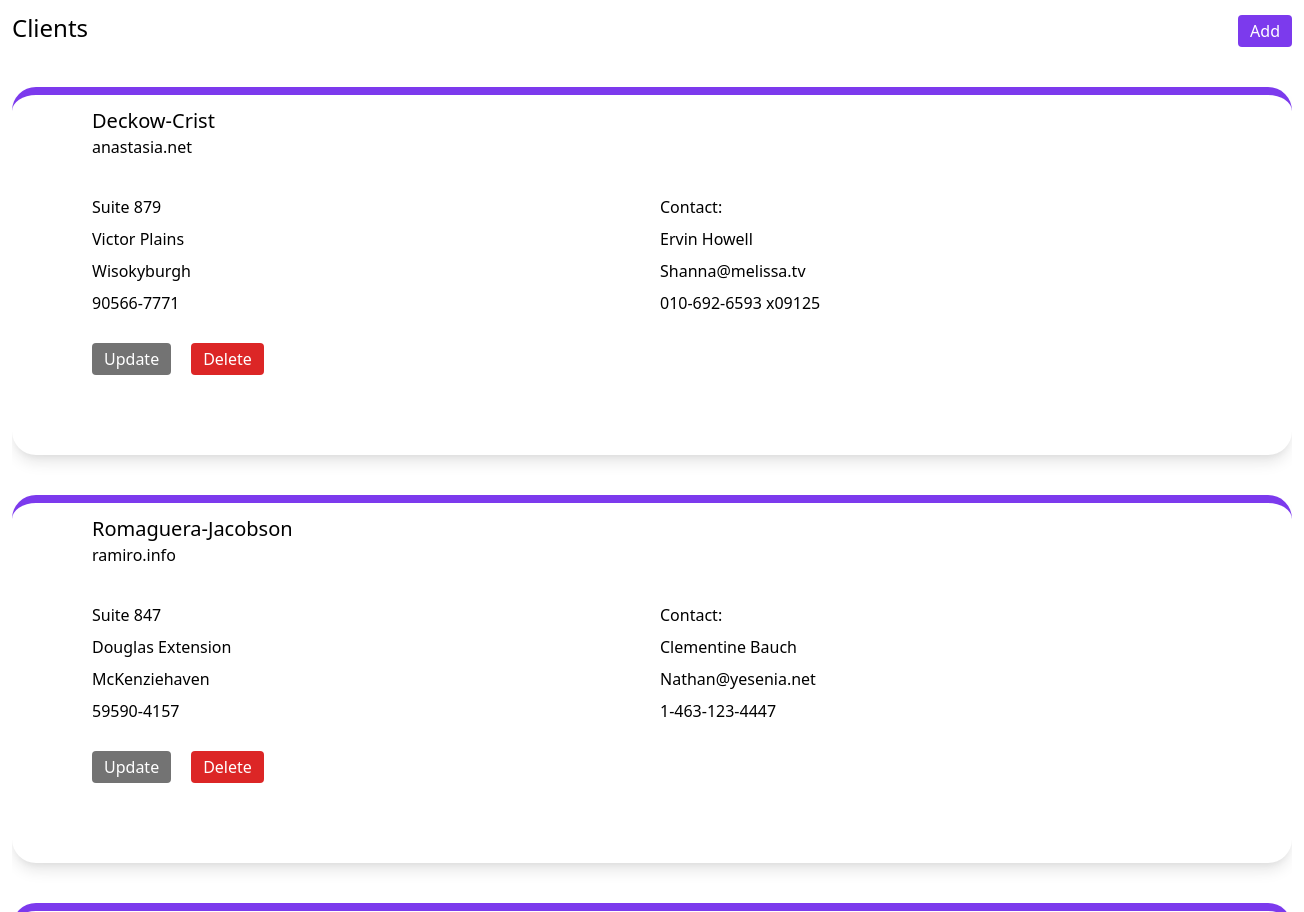
Test case: updates a client
Expected: the list item that starts with "Deckow-Crist" is shown, [12,87,1292,455]
Click the button "Update" below "90566-7771".
click(132, 359)  # box [92,343,171,375]
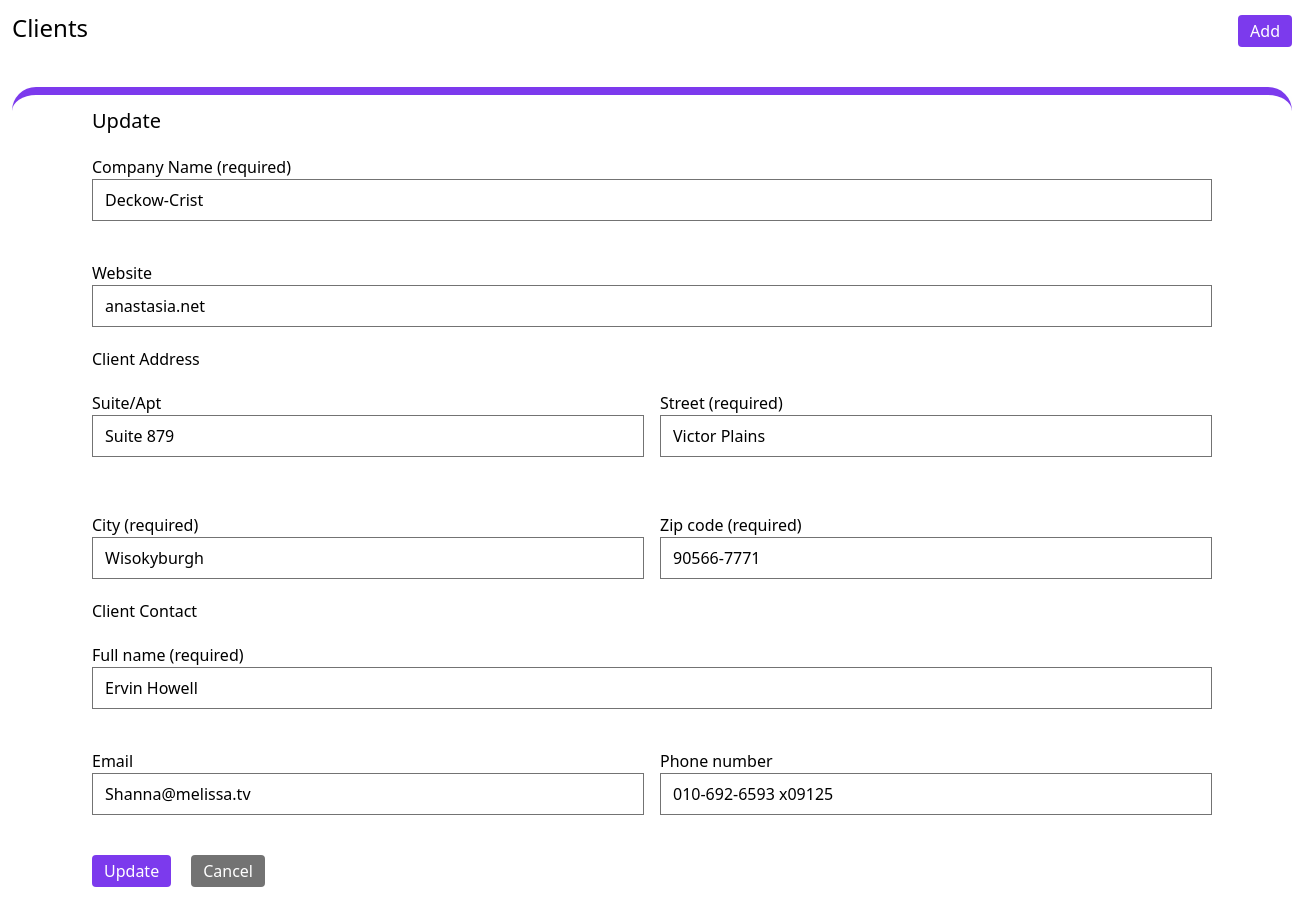
Result: the field labelled "Website" holds "anastasia.net"
Replace the text in the field labelled "Website" with "deckow-crist.net" at (652, 306), box [92,285,1212,327]
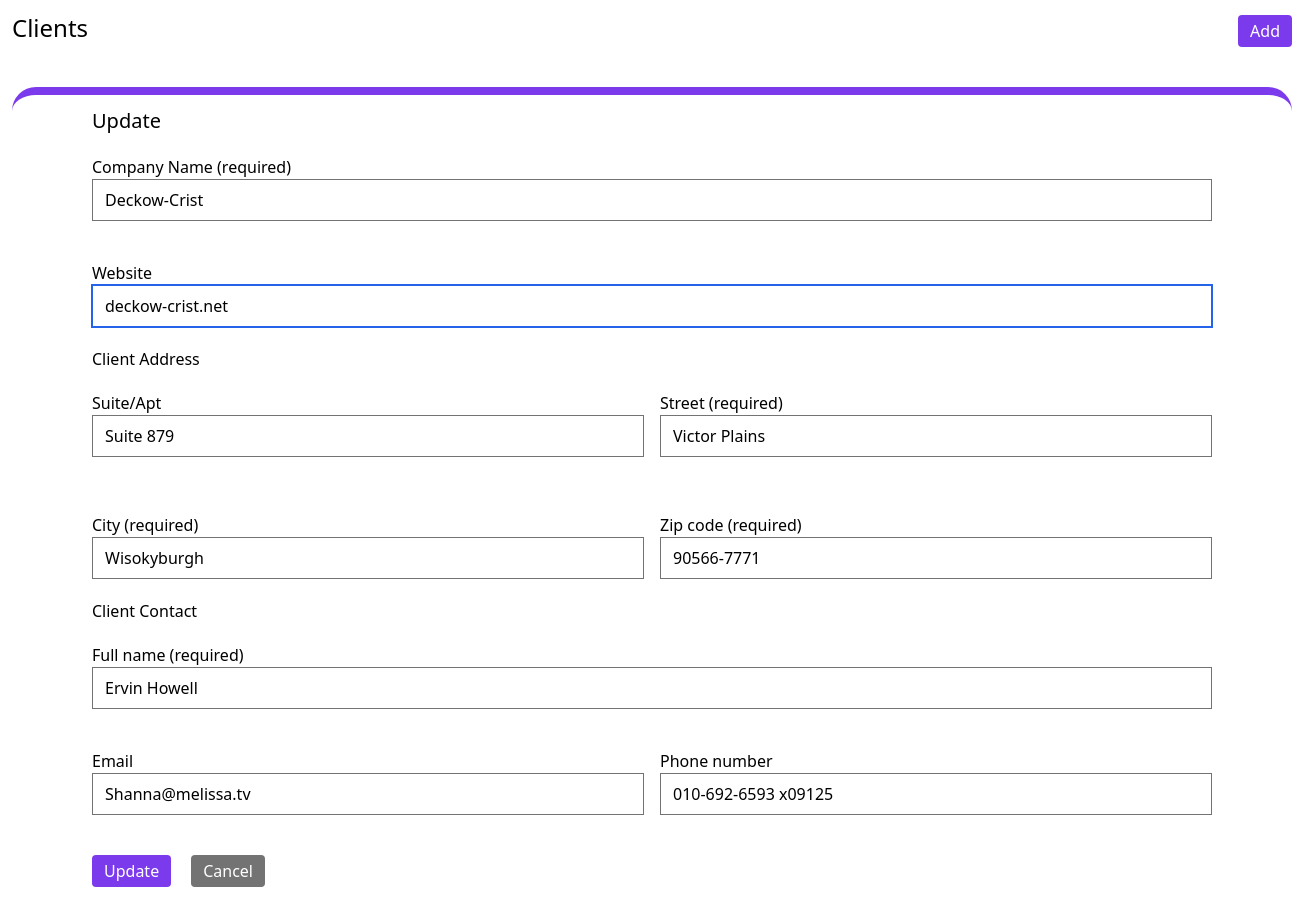
Result: the field labelled "Email" holds "Shanna@melissa.tv"
Replace the text in the field labelled "Email" with "ehowell@deckow-crist.net" at (368, 794), box [92,773,644,815]
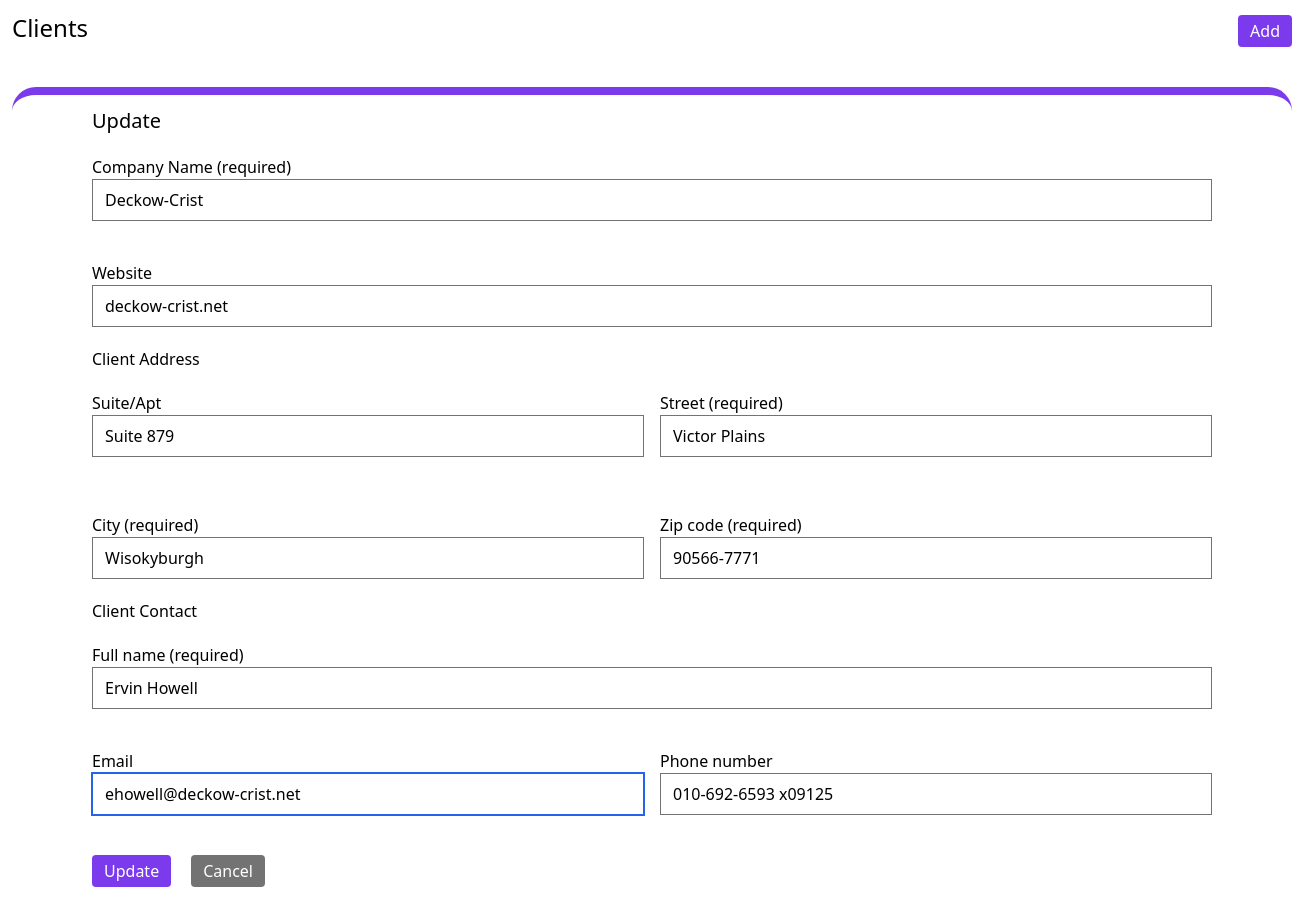
Click the button with test id "updateClientBtn2".
click(132, 871)  # box [92,855,171,887]
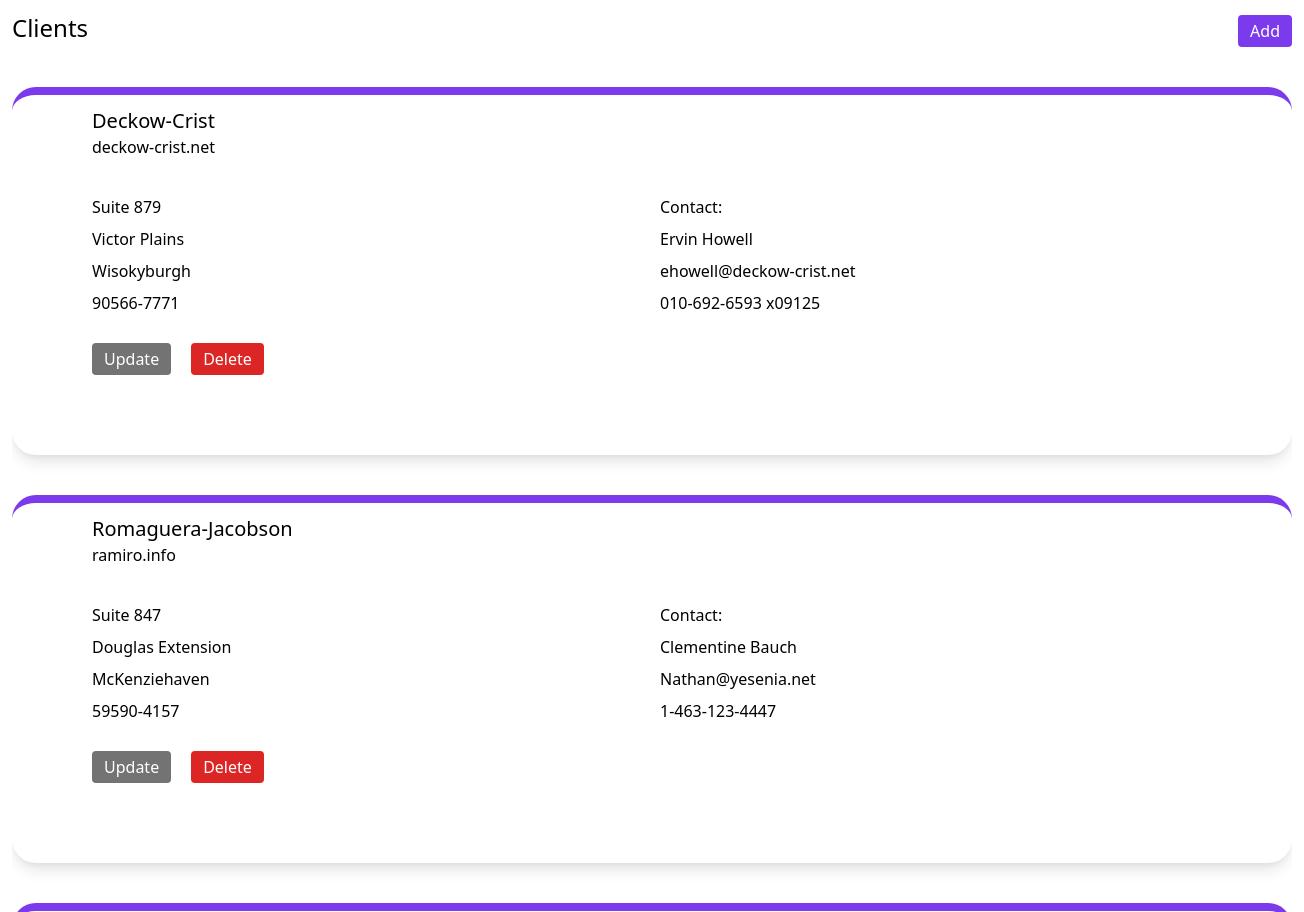
Result: the link "deckow-crist.net" is shown at [92,136,215,158]
Result: the link "ehowell@deckow-crist.net" is shown at [660,260,856,282]
